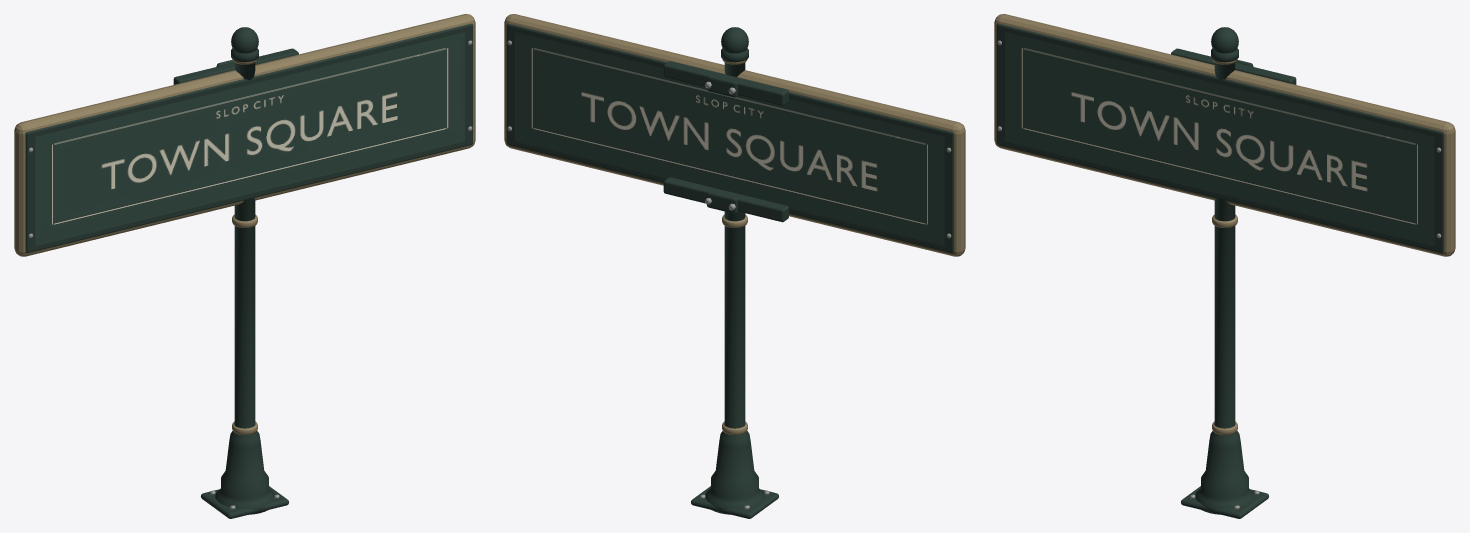
Rendered from signpost.glb.
3 renders of one model, left to right at view 1: azimuth 30°, elevation 25°; view 2: azimuth 150°, elevation 25°; view 3: azimuth 330°, elevation 25°, orthographic.
Visible parts, largest first — view 1: Signpost enamel lettering, Signpost evergreen powder coat, Signpost aged bronze; view 2: Signpost enamel lettering, Signpost evergreen powder coat, Signpost aged bronze; view 3: Signpost enamel lettering, Signpost evergreen powder coat, Signpost aged bronze.
Boxes of the visible parts, x1,y1,x2,y2 form: Signpost enamel lettering: (35,32,464,246); Signpost evergreen powder coat: (25,23,472,518); Signpost aged bronze: (14,14,475,434); Signpost enamel lettering: (515,32,944,246); Signpost evergreen powder coat: (507,23,954,518); Signpost aged bronze: (504,14,965,434); Signpost enamel lettering: (1005,32,1434,246); Signpost evergreen powder coat: (997,23,1444,518); Signpost aged bronze: (994,14,1455,434).
Size of the model in its own units: 2.85 by 2.82 by 0.327.
4 materials, 1 textured.
